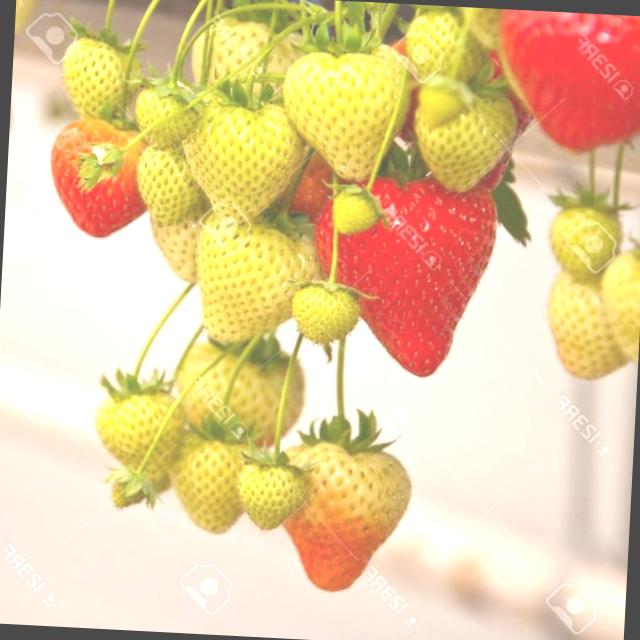Strawberry: (306, 168, 499, 380), (272, 435, 412, 597), (495, 9, 640, 160), (278, 45, 408, 183), (194, 213, 318, 345), (169, 332, 310, 448), (179, 95, 306, 223), (45, 115, 154, 240), (410, 84, 519, 198), (185, 14, 304, 106), (542, 270, 636, 382), (165, 432, 258, 536), (91, 384, 184, 487), (404, 4, 504, 88), (60, 35, 142, 122), (546, 198, 622, 280), (234, 457, 309, 532), (150, 206, 214, 290), (598, 253, 640, 365), (132, 78, 195, 148), (290, 282, 358, 345), (331, 186, 379, 236)
